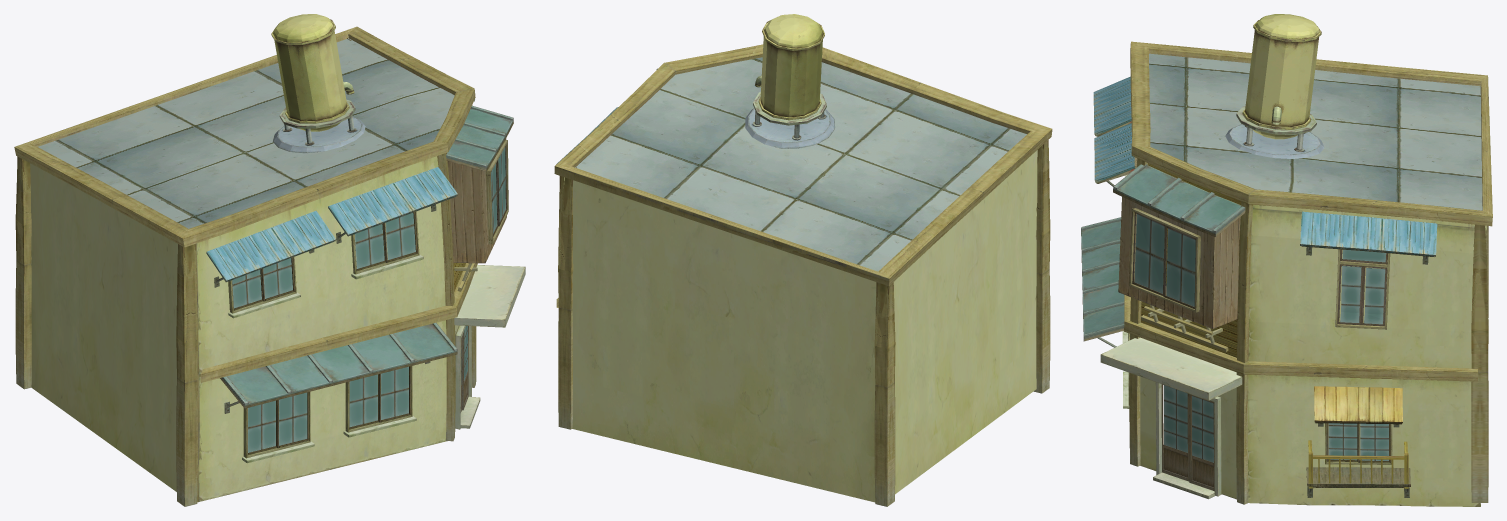
The model's file is Casa3.fbx.
The picture shows the model from 3 angles, left to right: view 1: azimuth 30°, elevation 25°; view 2: azimuth 150°, elevation 25°; view 3: azimuth 270°, elevation 25°; orthographic projection. The views are drawn at different scales.
Visible parts, largest first — view 1: Object04_1; view 2: Object04_1; view 3: Object04_1.
Boxes of the visible parts, <box> form: Object04_1: <box>14,14,525,506</box>; Object04_1: <box>554,14,1052,506</box>; Object04_1: <box>1081,14,1492,506</box>.
Size of the model in its own units: 13545 by 13293 by 12050.
7 materials, 7 textured.
